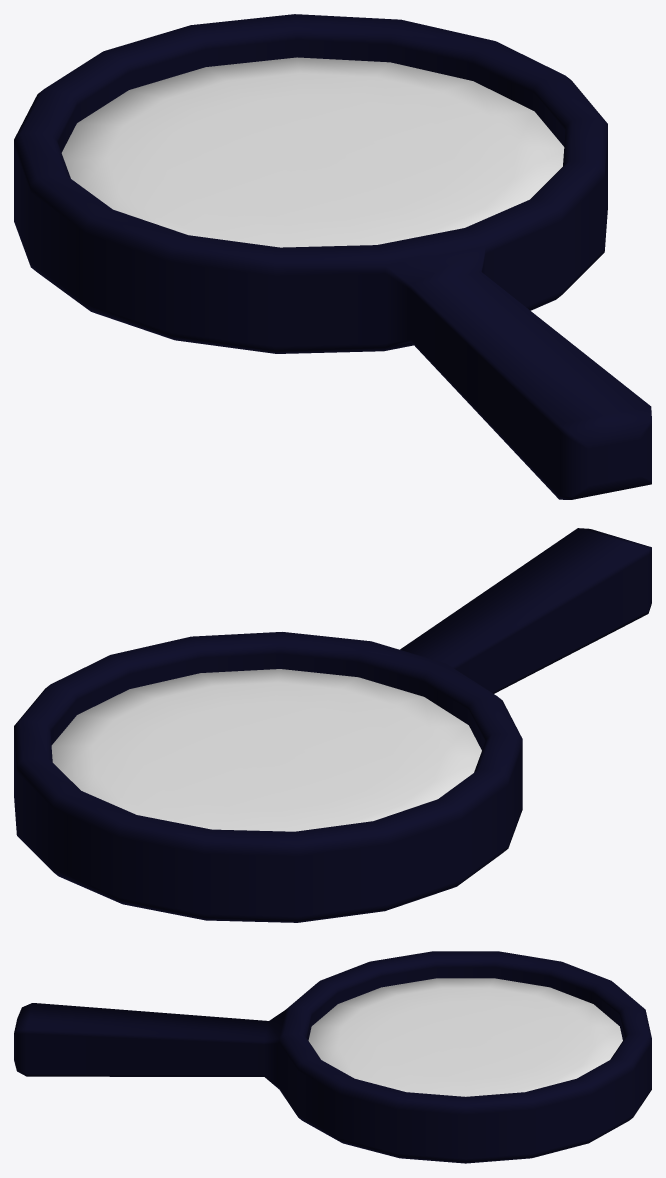
Rendered from magnifying_glass.fbx.
3 views of the same model, one above another, from view 1: azimuth 30°, elevation 25°; view 2: azimuth 150°, elevation 25°; view 3: azimuth 270°, elevation 25° (orthographic). The views are drawn at different scales.
Parts seen in each view (by area): view 1: Torus, Torus.001; view 2: Torus, Torus.001; view 3: Torus, Torus.001.
Part boxes in pixels (<box>): Torus: <box>14,14,651,499</box>; Torus.001: <box>61,57,564,247</box>; Torus: <box>14,528,651,922</box>; Torus.001: <box>51,669,481,831</box>; Torus: <box>14,951,651,1163</box>; Torus.001: <box>308,978,622,1096</box>.
Size of the model in its own units: 214 by 37.55 by 367.
